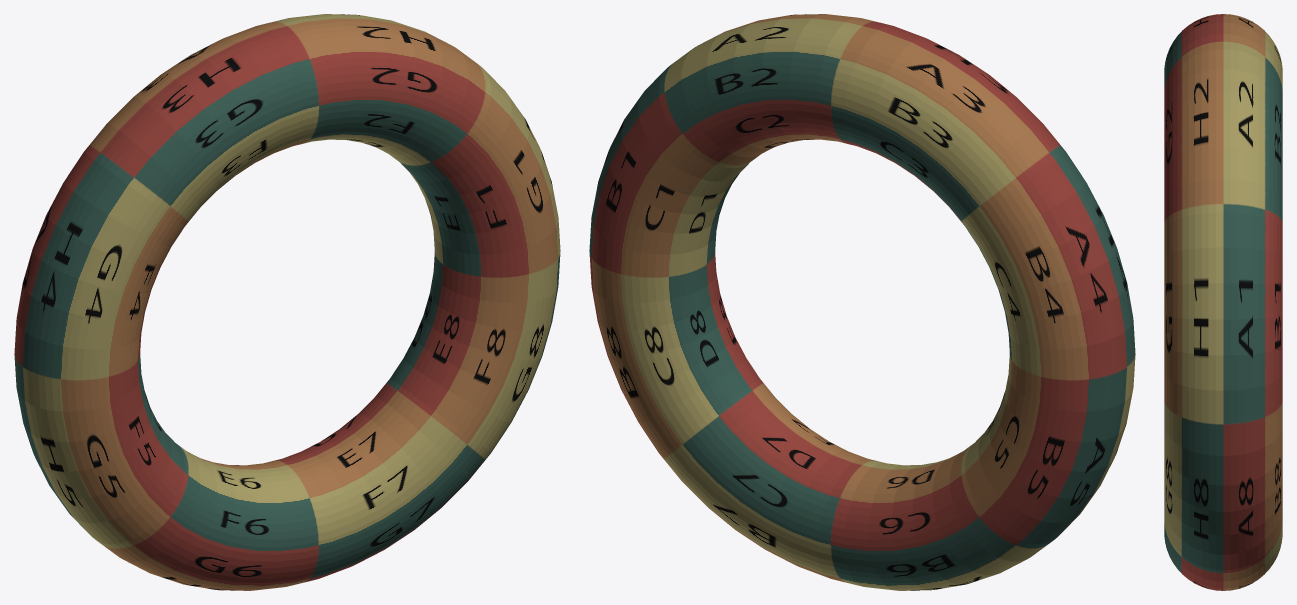
Rendered from texture_torus_R29_r21.glb.
The picture shows the model from 3 angles, left to right: view 1: azimuth 30°, elevation 25°; view 2: azimuth 150°, elevation 25°; view 3: azimuth 270°, elevation 25°; orthographic projection. The views are drawn at different scales.
Parts seen in each view (by area): view 1: world; view 2: world; view 3: world.
Boxes of the visible parts, x1=… form: world: x1=14, y1=14, x2=560, y2=590; world: x1=589, y1=14, x2=1135, y2=590; world: x1=1164, y1=14, x2=1282, y2=590.
Bounding box in the file's own units: 36.93 × 36.86 × 7.59.
1 material, 1 textured.
